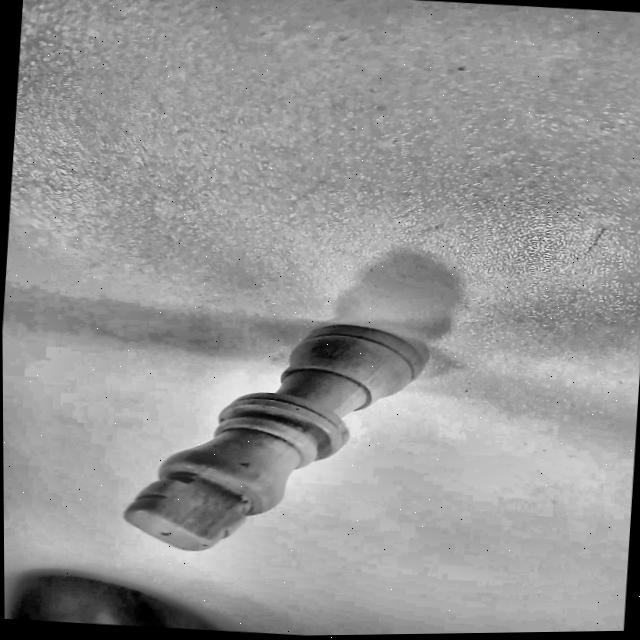white-king: (47, 256, 494, 598)
